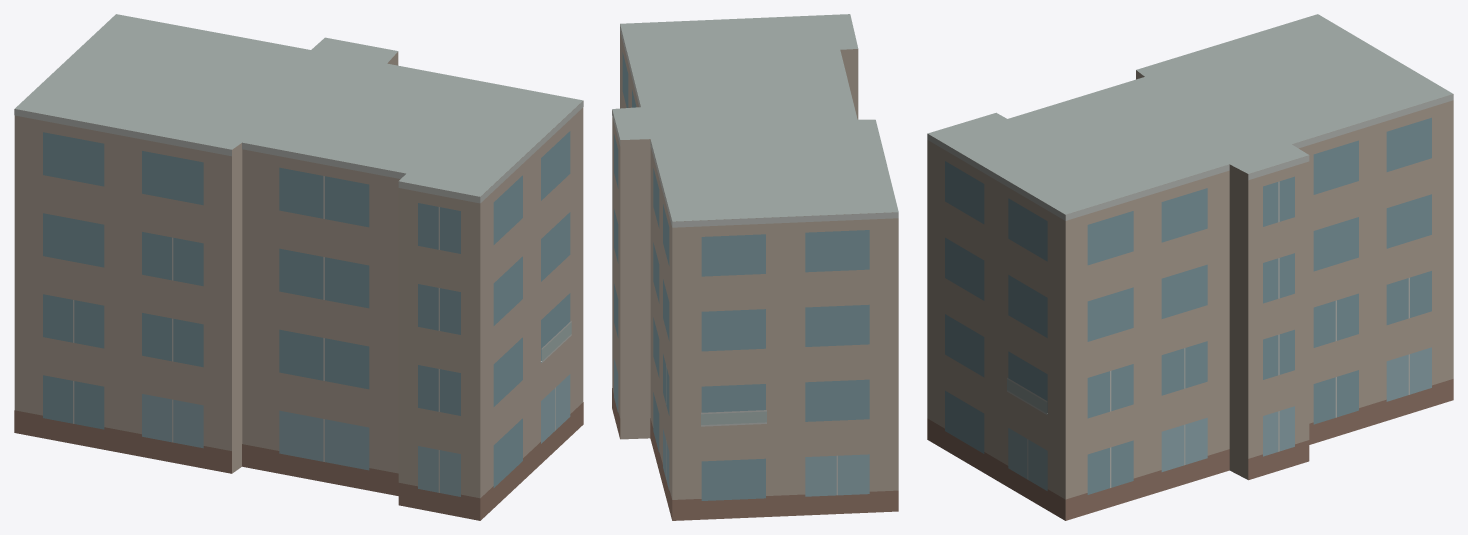
The model's file is survey-upis-32806589.glb.
3 renders of one model, left to right at view 1: azimuth 30°, elevation 25°; view 2: azimuth 150°, elevation 25°; view 3: azimuth 270°, elevation 25°, orthographic. The views are drawn at different scales.
Visible parts, largest first — view 1: survey-upis-32806589.tmp; view 2: survey-upis-32806589.tmp; view 3: survey-upis-32806589.tmp.
Boxes of the visible parts, bbox=[...] form: survey-upis-32806589.tmp: bbox=[14, 14, 583, 520]; survey-upis-32806589.tmp: bbox=[612, 14, 898, 520]; survey-upis-32806589.tmp: bbox=[927, 14, 1453, 520].
Bounding box in the file's own units: 16.81 × 11.95 × 18.62.
